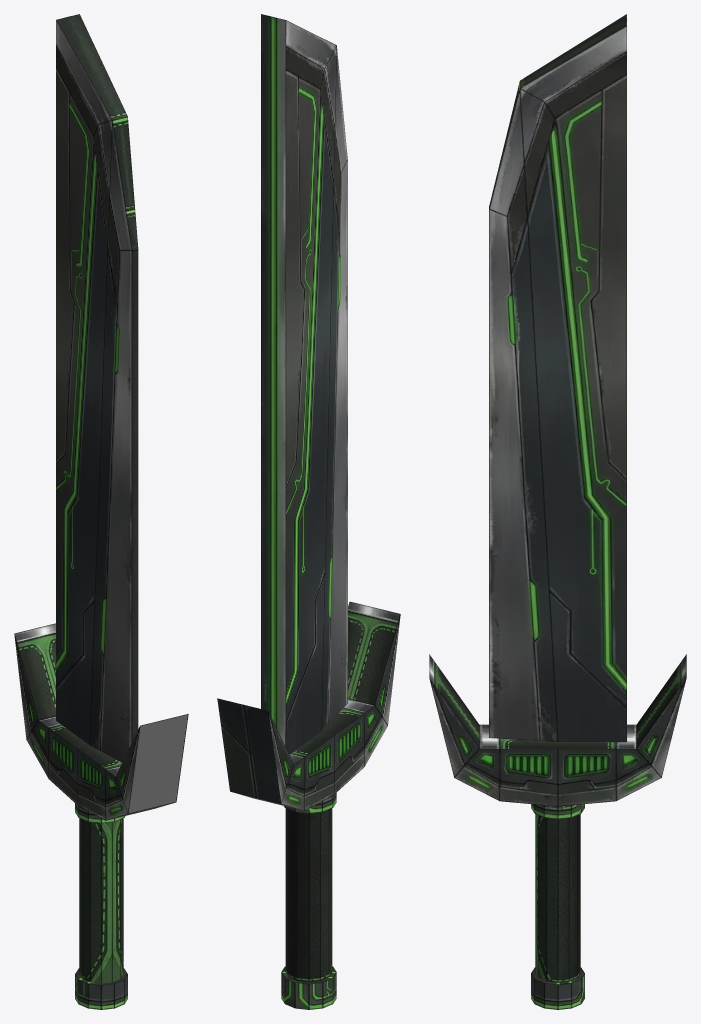
File: broad_sword.glb
The picture shows the model from 3 angles, left to right: view 1: azimuth 30°, elevation 25°; view 2: azimuth 150°, elevation 25°; view 3: azimuth 270°, elevation 25°; orthographic projection. The views are drawn at different scales.
Parts seen in each view (by area): view 1: broad_sword; view 2: broad_sword; view 3: broad_sword.
Boxes of the visible parts, box(x1,y1,x2,y2) form: broad_sword: box(14, 14, 188, 1009); broad_sword: box(217, 14, 400, 1009); broad_sword: box(429, 14, 686, 1009).
Bounding box in the file's own units: 0.0726 × 1.37 × 0.3256.
Materials: 1 (1 with a texture image).
